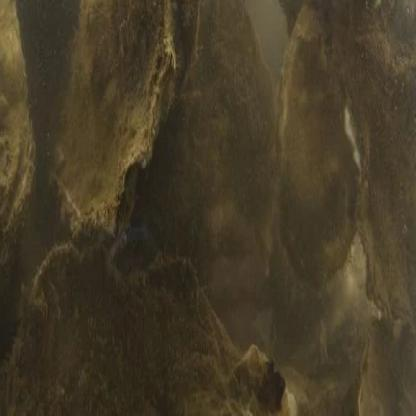Oyster-Closed: (0, 237, 291, 416), (279, 0, 416, 330), (20, 0, 177, 246), (135, 0, 279, 259), (279, 4, 362, 290), (358, 315, 416, 416)
